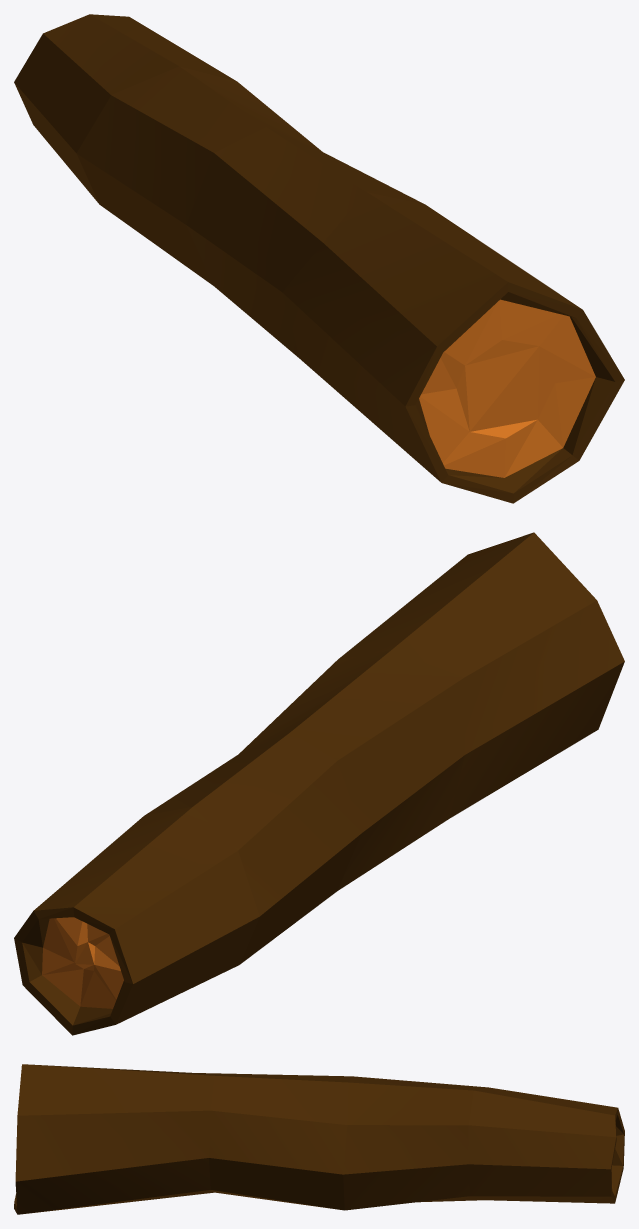
Rendered from TreeLog.fbx.
The picture shows the model from 3 angles, top to bottom: view 1: azimuth 30°, elevation 25°; view 2: azimuth 150°, elevation 25°; view 3: azimuth 270°, elevation 25°; orthographic projection. The views are drawn at different scales.
Visible parts, largest first — view 1: DeadTrunk; view 2: DeadTrunk; view 3: DeadTrunk.
Boxes of the visible parts, left/top/right/bottom form: DeadTrunk: left=14, top=14, right=624, bottom=503; DeadTrunk: left=14, top=532, right=624, bottom=1035; DeadTrunk: left=14, top=1064, right=624, bottom=1214.
Bounding box in the file's own units: 23.64 × 23.38 × 89.43.
